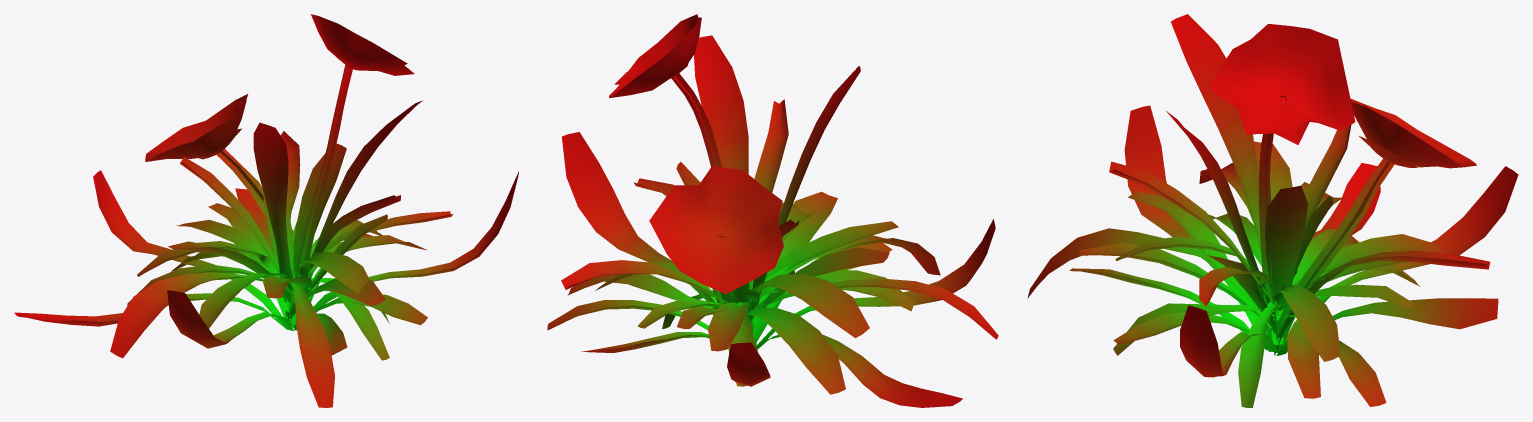
The model's file is Var2_LOD0.fbx.
3 renders of one model, left to right at view 1: azimuth 30°, elevation 25°; view 2: azimuth 150°, elevation 25°; view 3: azimuth 270°, elevation 25°, orthographic. The views are drawn at different scales.
Parts seen in each view (by area): view 1: _5f32_Var2_LOD0; view 2: _5f32_Var2_LOD0; view 3: _5f32_Var2_LOD0.
Boxes of the visible parts, x1,y1,x2,y2 form: _5f32_Var2_LOD0: (14,14,518,407); _5f32_Var2_LOD0: (547,14,998,407); _5f32_Var2_LOD0: (1027,14,1518,407).
Bounding box in the file's own units: 44.72 × 29.76 × 36.81.
